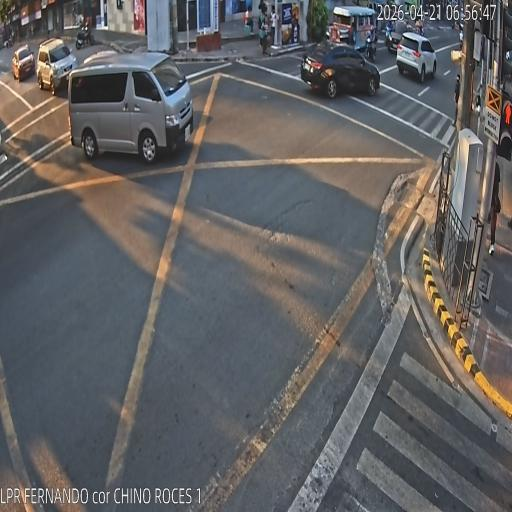Car: (62, 53, 214, 180), (294, 25, 383, 119), (397, 27, 441, 104), (30, 38, 78, 99), (10, 46, 38, 92), (388, 26, 407, 56)
